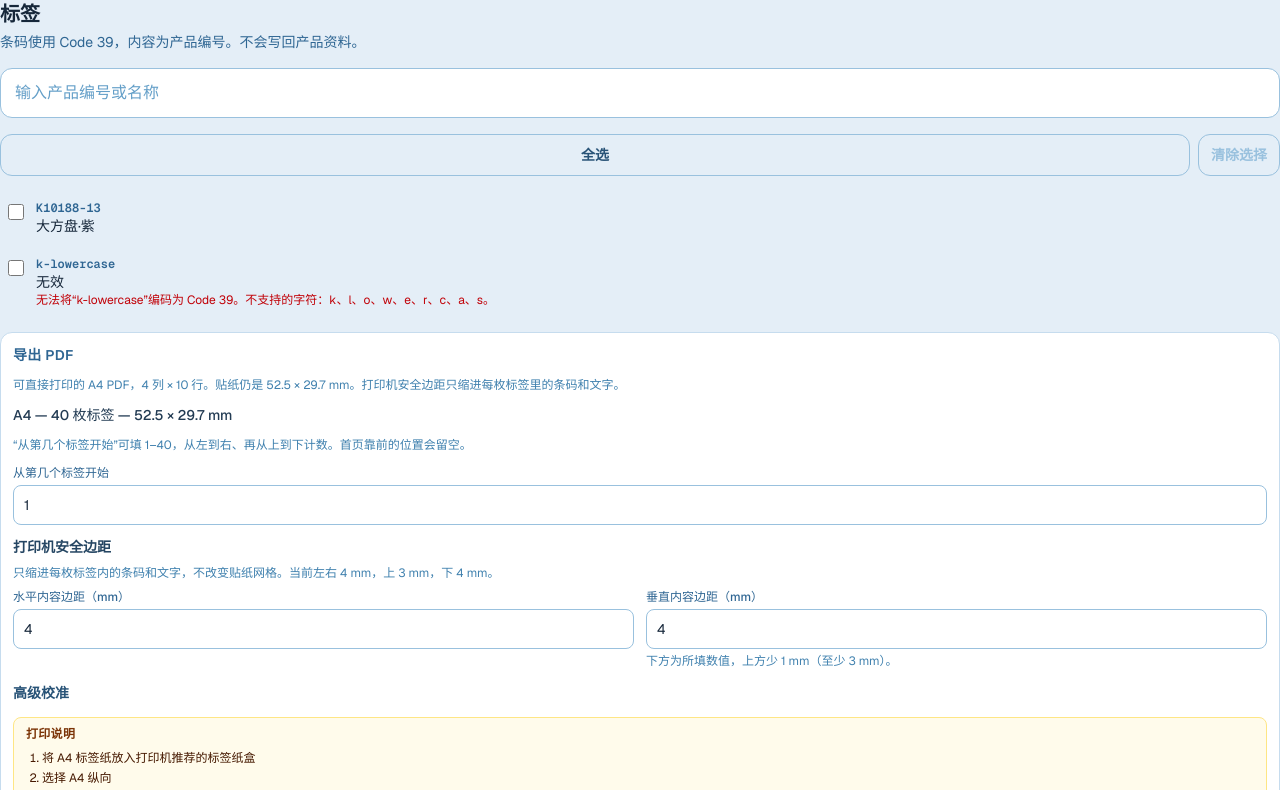
Test: selection and copies in the page › selects one product and all search results
The image size is (1280, 790).
Click the checkbox named "选择 K10188-13": (16, 212) [8,204,24,220]
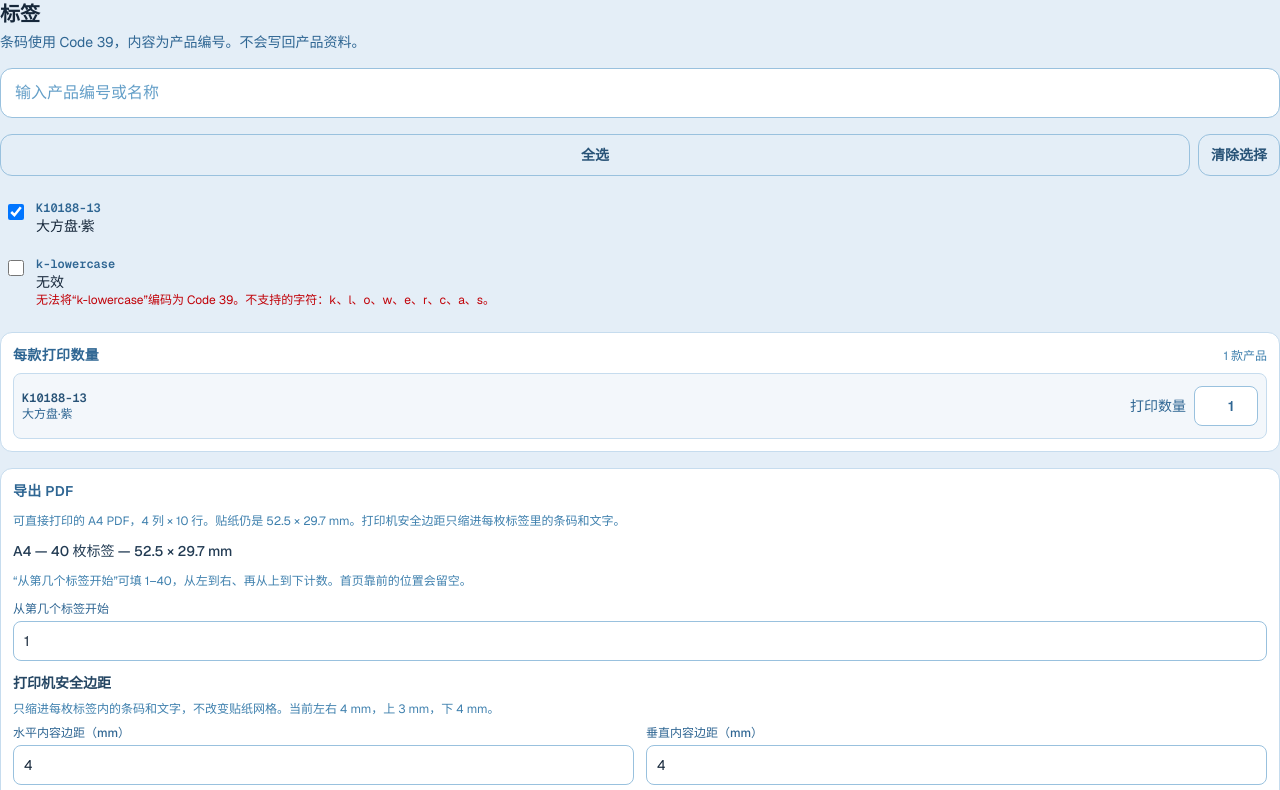
Now the checkbox named "选择 K10188-13" is checked, box [8,204,24,220]
Click the button "全选": (595, 155) [0,134,1190,176]
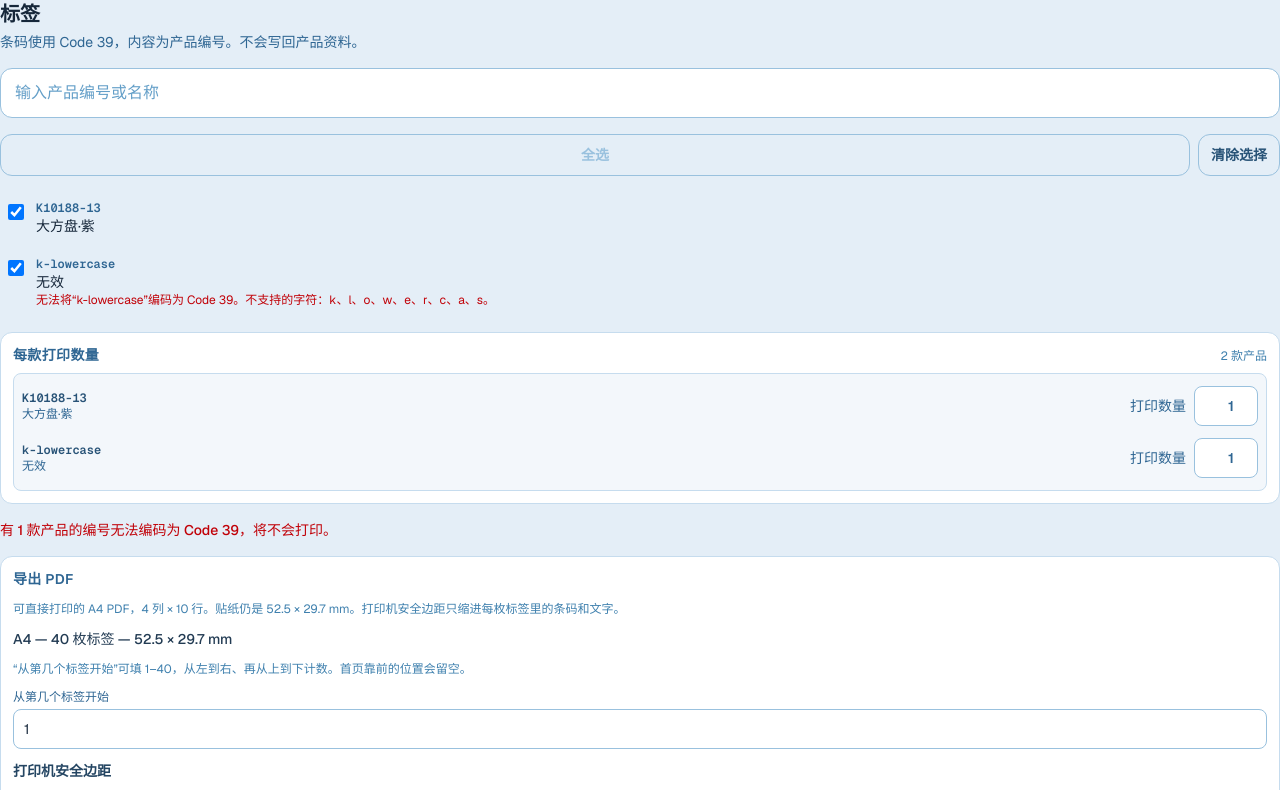
Now the checkbox named "选择 k-lowercase" is checked, box [8,260,24,276]
